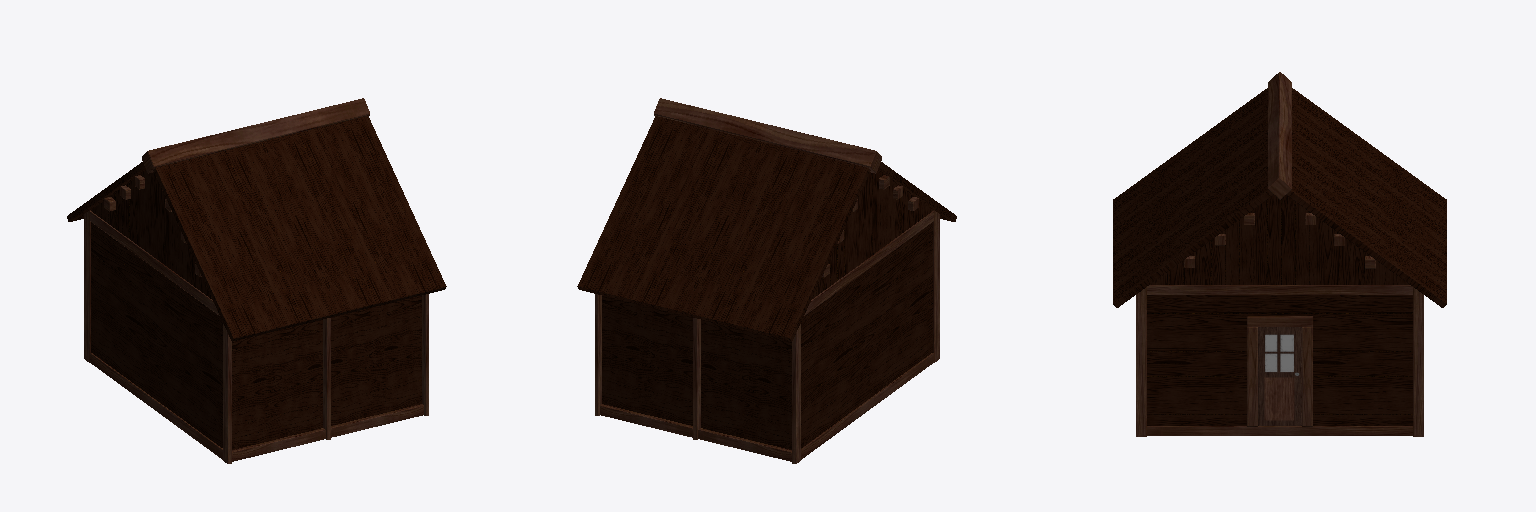
3 renders of one model, left to right at view 1: azimuth 30°, elevation 25°; view 2: azimuth 150°, elevation 25°; view 3: azimuth 270°, elevation 25°, orthographic.
Parts seen in each view (by area): view 1: Warehouse:Mesh; view 2: Warehouse:Mesh; view 3: Warehouse:Mesh.
Part boxes in pixels (x1,y1,x2,y2): Warehouse:Mesh: (67, 98, 446, 463); Warehouse:Mesh: (577, 98, 956, 463); Warehouse:Mesh: (1113, 72, 1446, 436).
Bounding box in the file's own units: 1.83 × 2.12 × 2.44.
1 materials, 1 textured.